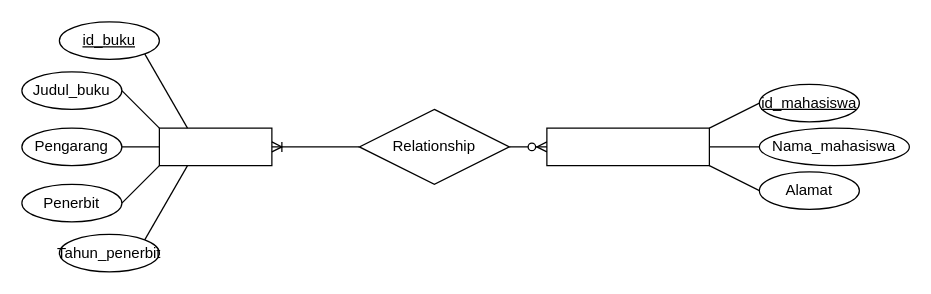
Some shapes in this 931 by 294 pixel diagram are drawn without their labels. Here are the shapes that lost their labels. From the top down, the centre of each, then its label:
the point at 215,146: Buku
the point at 627,146: Anggota_perpustakaan
